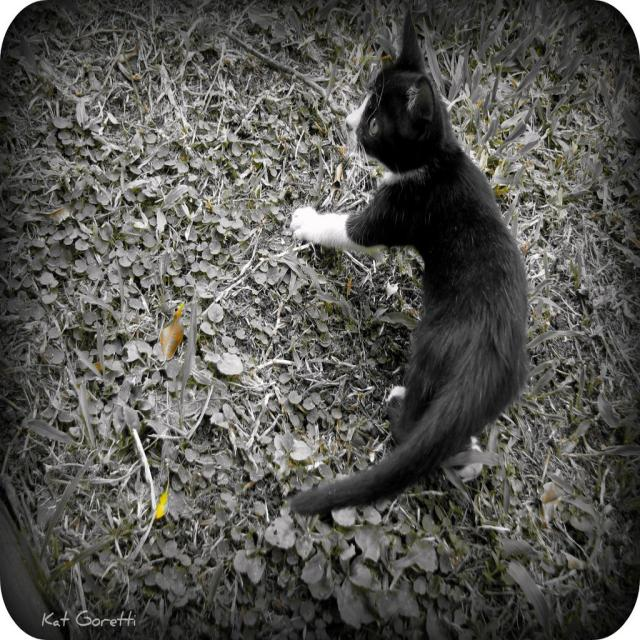Cat: (291, 16, 535, 518)
